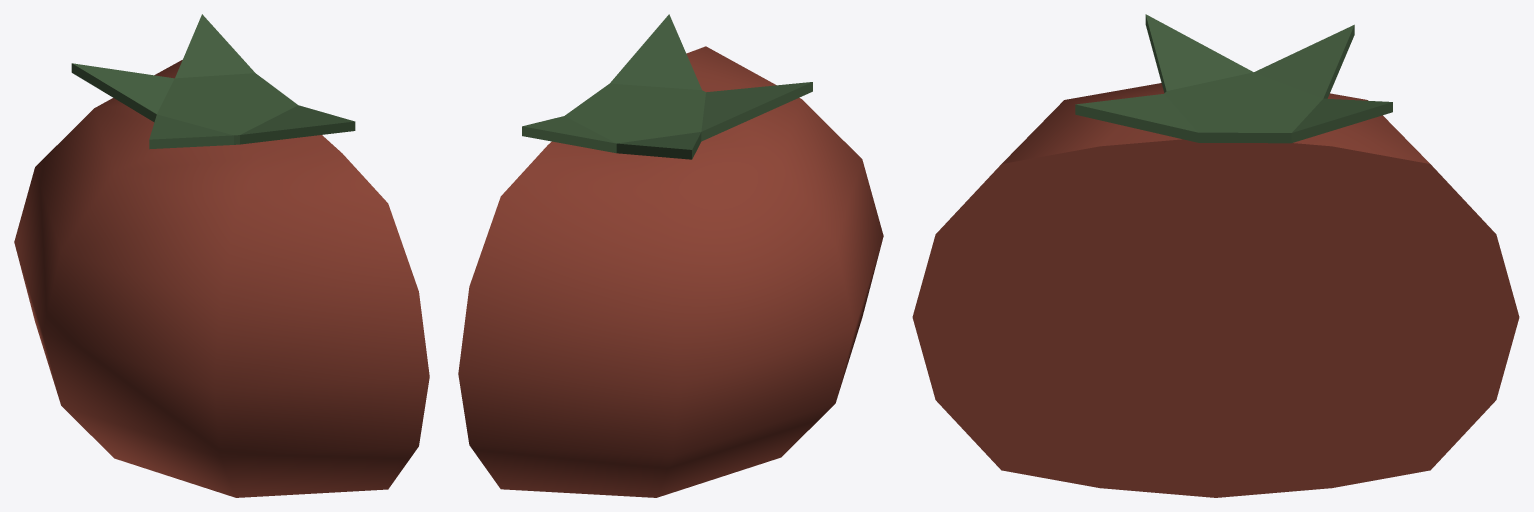
The model's file is SM_TomatoCut.fbx.
3 views of the same model, side by side, from view 1: azimuth 30°, elevation 25°; view 2: azimuth 150°, elevation 25°; view 3: azimuth 270°, elevation 25° (orthographic). The views are drawn at different scales.
Visible parts, largest first — view 1: TomatoBase, TomatLeaf; view 2: TomatoBase, TomatLeaf; view 3: TomatoBase, TomatLeaf.
Part boxes in pixels (bbox=[...]): TomatoBase: bbox=[14, 60, 429, 497]; TomatLeaf: bbox=[71, 14, 355, 149]; TomatoBase: bbox=[458, 46, 883, 497]; TomatLeaf: bbox=[522, 14, 812, 159]; TomatoBase: bbox=[912, 83, 1519, 497]; TomatLeaf: bbox=[1075, 14, 1392, 143].
Bounding box in the file's own units: 5.26 × 7.45 × 10.4.
